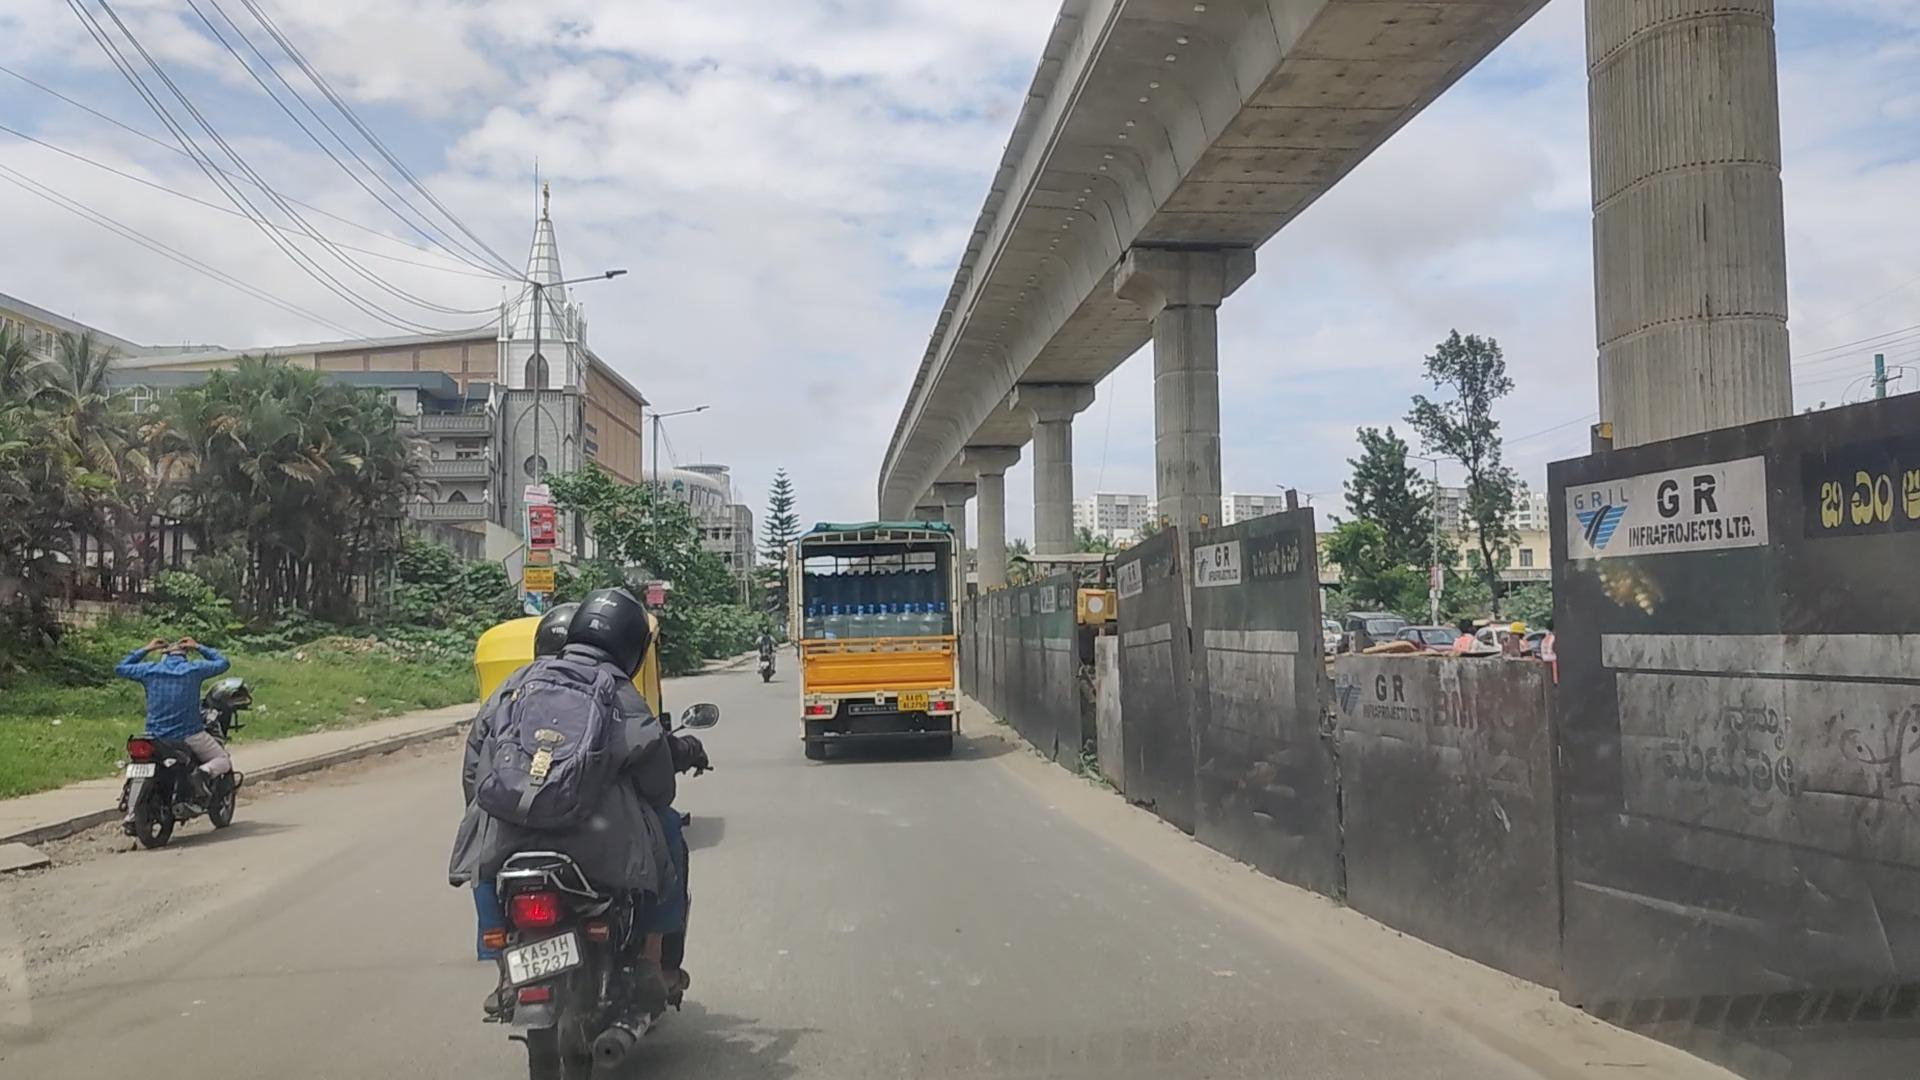HMV: (779, 504, 964, 775)
LMV: (421, 551, 707, 1080), (418, 588, 686, 886), (129, 633, 243, 841)
